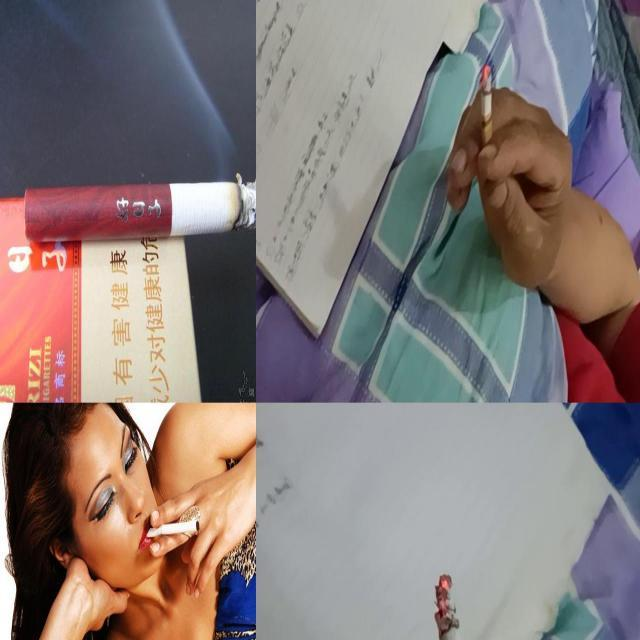smoke: (24, 181, 256, 243), (434, 572, 486, 640), (480, 64, 494, 164), (146, 519, 200, 536)
